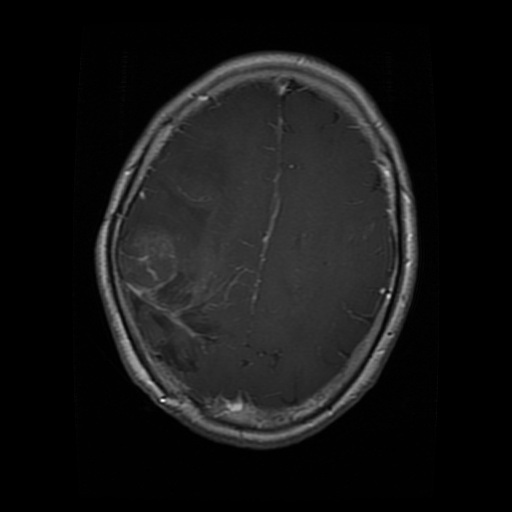glioma: (119, 222, 241, 372)
